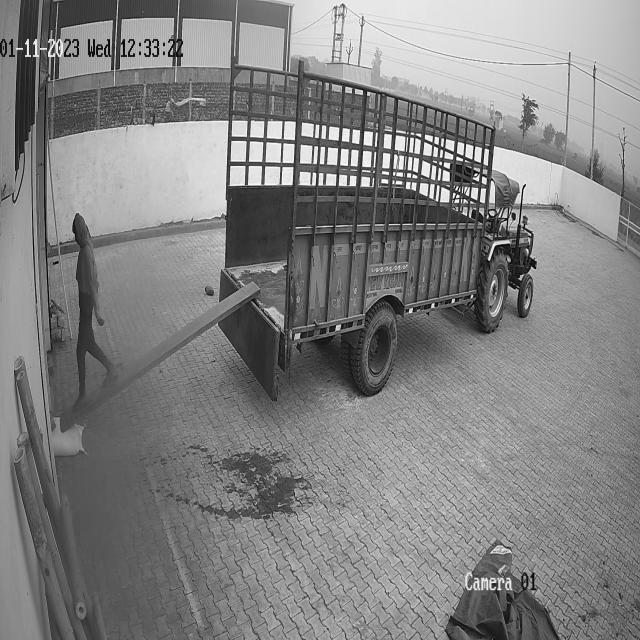sack: (51, 417, 84, 455)
